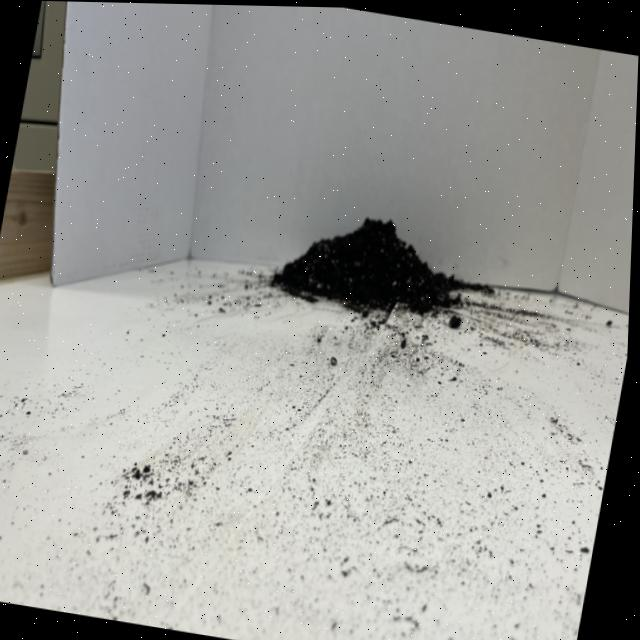soil: (266, 198, 477, 332)
